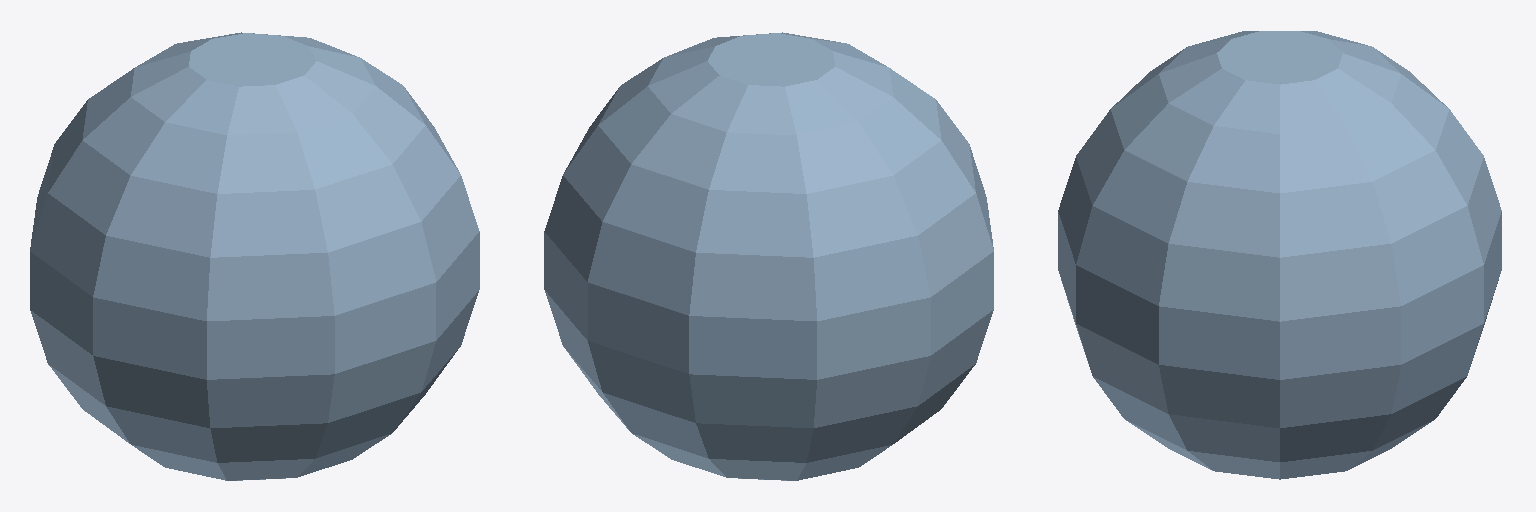
3 renders of one model, left to right at view 1: azimuth 30°, elevation 25°; view 2: azimuth 150°, elevation 25°; view 3: azimuth 270°, elevation 25°, orthographic.
Parts seen in each view (by area): view 1: polySurface9 Vaca_1_Espacio; view 2: polySurface9 Vaca_1_Espacio; view 3: polySurface9 Vaca_1_Espacio.
Part boxes in pixels (bbox=[...]): polySurface9 Vaca_1_Espacio: bbox=[30, 32, 479, 480]; polySurface9 Vaca_1_Espacio: bbox=[544, 32, 993, 480]; polySurface9 Vaca_1_Espacio: bbox=[1058, 31, 1501, 479].
Bounding box in the file's own units: 1.73 × 1.67 × 1.71.
Materials: 1 (1 with a texture image).